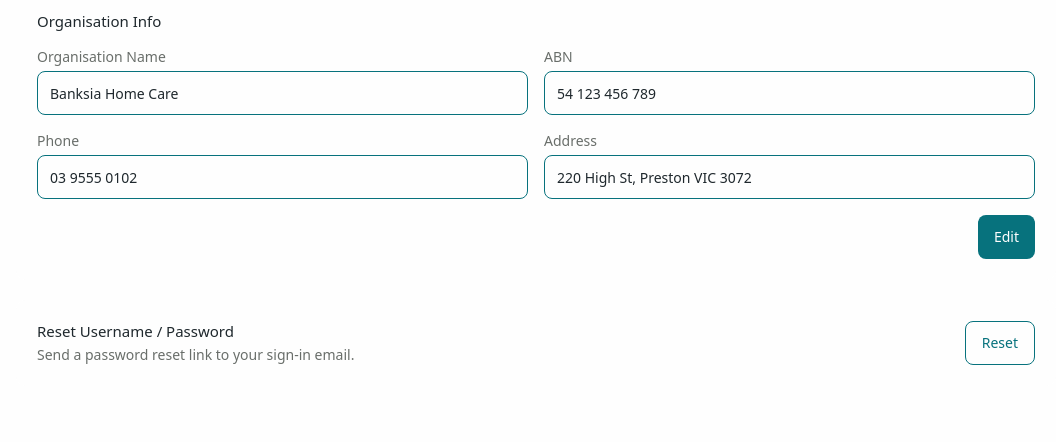
Test: [ADM-10][AC-05] a failed save › [ADM-10][AC-05] keeps what was typed, announces the error and never shows 'Saved.'
Click the button "Edit": click(1006, 237) top-left (978, 215), bottom-right (1035, 259)
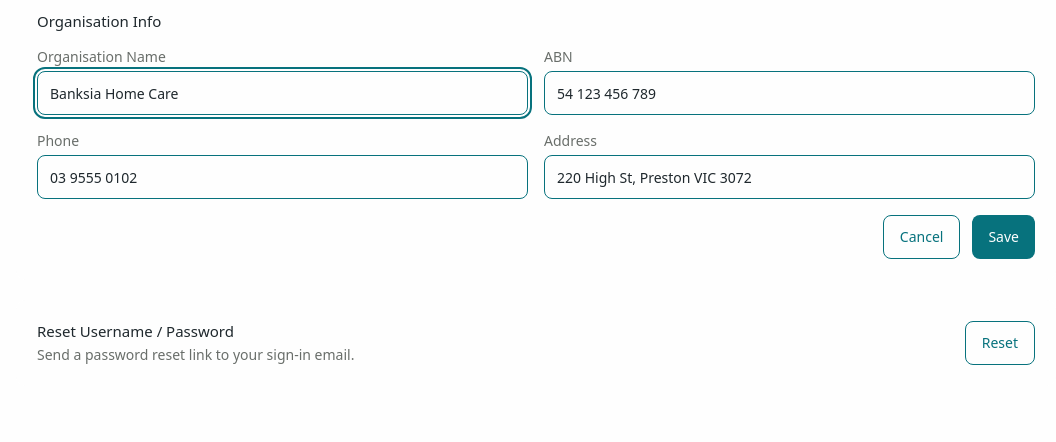
Replace the text in the field labelled "Address" with "5 High St": (790, 177) top-left (544, 155), bottom-right (1035, 199)
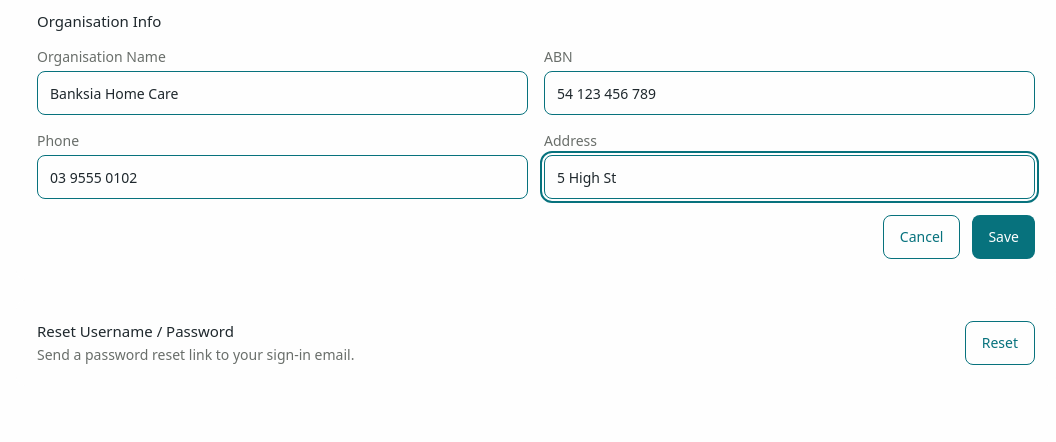
Click the button "Save": click(1004, 237) top-left (972, 215), bottom-right (1035, 259)
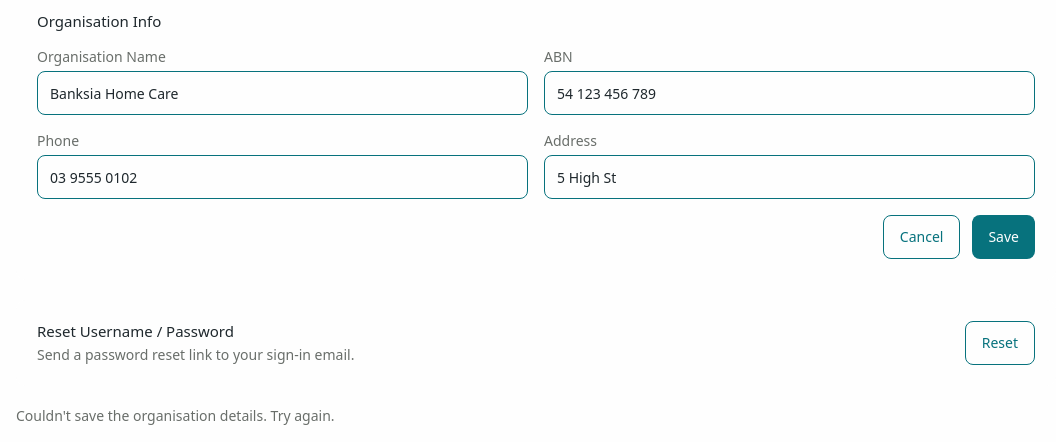
Expected: the text "Couldn't save the organisation details. Try again." is shown, top-left (16, 406), bottom-right (334, 425)
